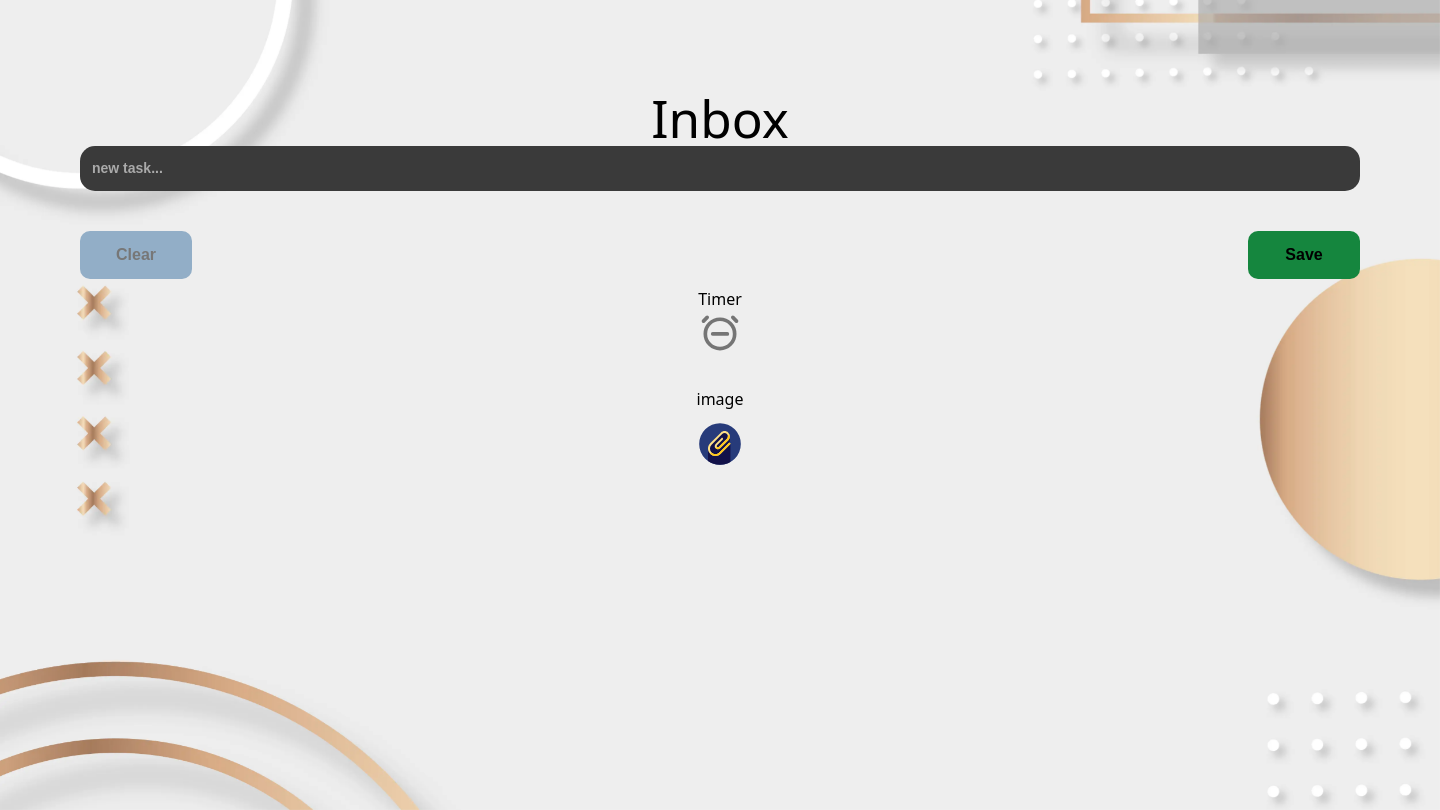
Scenario: Inbox: task creation › Clear button is disabled while the form is pristine and no image is attached
Expected: the button "Clear" is disabled, [80,231,192,279]
Type "abc" into the field with placeholder "new task..." at (720, 169), box [80,146,1360,191]
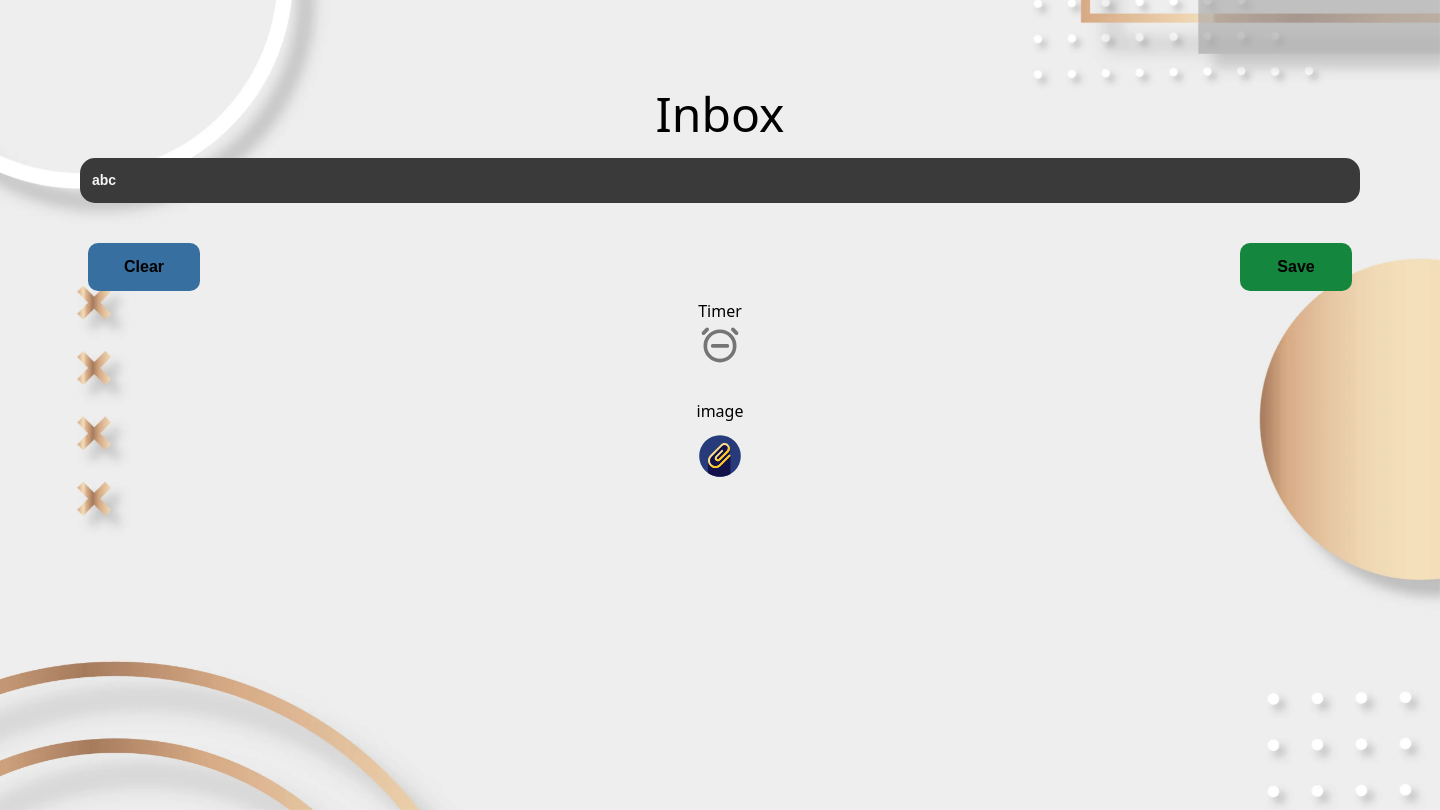
Result: the button "Clear" is enabled at [88,243,200,291]
